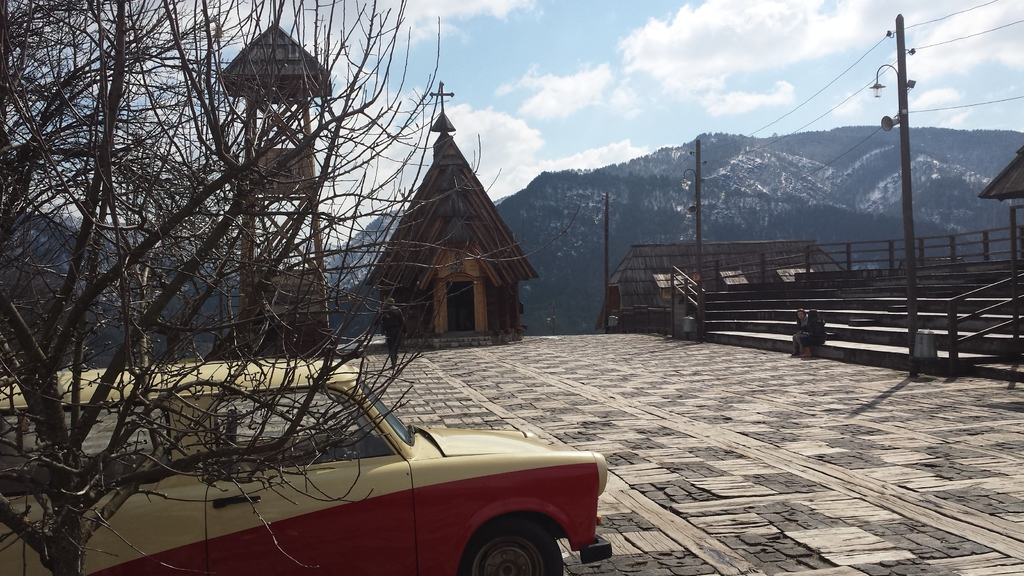Car: (76, 369, 586, 551)
